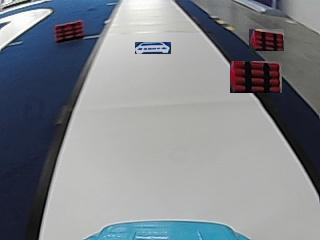bomb: (54, 18, 83, 41)
